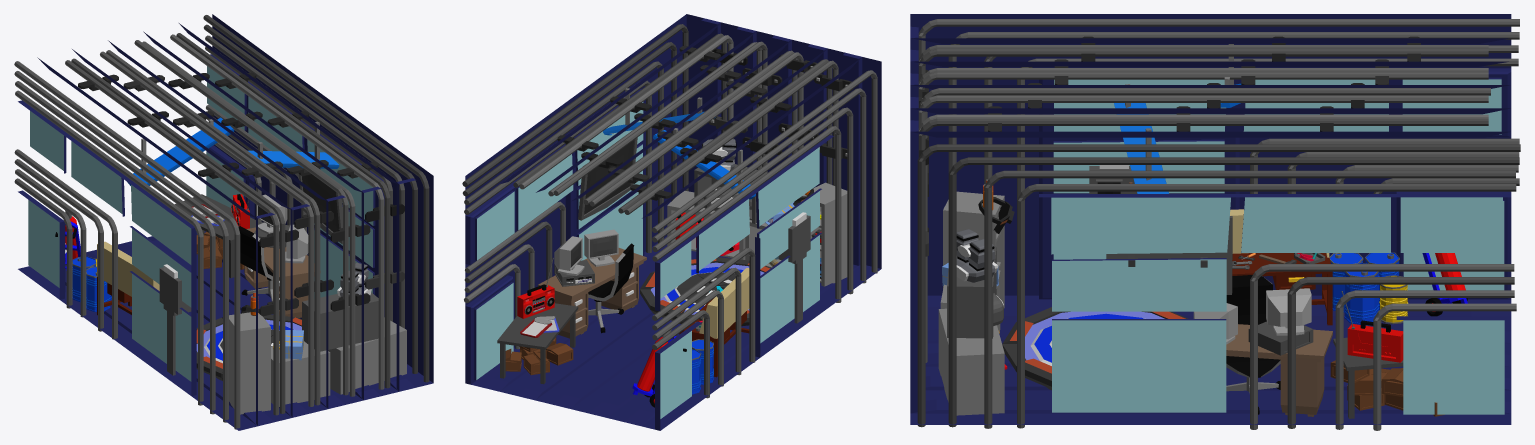
File: mech_room_280_v2_colored.fbx
The picture shows the model from 3 angles, left to right: view 1: azimuth 30°, elevation 25°; view 2: azimuth 150°, elevation 25°; view 3: azimuth 270°, elevation 25°; orthographic projection. The views are drawn at different scales.
Parts seen in each view (by area): view 1: rooom.002, Plane.003, Cylinder.020, Cylinder.011, Cylinder.003, Cylinder.021, Cylinder.012, Cylinder.006, Cylinder.008, Cylinder.010, Cylinder.004, Cylinder.009 (+30 smaller); view 2: rooom.002, Cylinder.020, Cylinder.021, Plane.023, Cylinder.022, Cylinder.023, Cylinder.011, Plane.003, Plane.049, Cylinder.012, Cylinder, Cylinder.013 (+35 smaller); view 3: rooom.002, Cylinder.011, Cylinder.013, Cylinder.012, Cylinder.014, Cylinder.006, Cylinder.020, Cylinder.004, Cylinder.005, Cylinder.009, Cylinder.007, Cylinder.021 (+33 smaller).
Part boxes in pixels (x1=…): rooom.002: x1=18, y1=14, x2=433, y2=430; Plane.003: x1=229, y1=312, x2=270, y2=414; Cylinder.020: x1=14, y1=61, x2=240, y2=429; Cylinder.011: x1=203, y1=15, x2=429, y2=382; Cylinder.003: x1=170, y1=34, x2=384, y2=389; Cylinder.021: x1=14, y1=71, x2=228, y2=422; Cylinder.012: x1=203, y1=24, x2=417, y2=373; Cylinder.006: x1=134, y1=40, x2=348, y2=395; Cylinder.008: x1=100, y1=51, x2=313, y2=406; Cylinder.010: x1=65, y1=60, x2=278, y2=415; Cylinder.004: x1=176, y1=33, x2=390, y2=388; Cylinder.009: x1=71, y1=58, x2=285, y2=413; rooom.002: x1=465, y1=14, x2=881, y2=430; Cylinder.020: x1=652, y1=70, x2=877, y2=273; Cylinder.021: x1=652, y1=88, x2=866, y2=283; Plane.023: x1=538, y1=248, x2=646, y2=338; Cylinder.022: x1=652, y1=107, x2=853, y2=294; Cylinder.023: x1=652, y1=126, x2=841, y2=302; Cylinder.011: x1=462, y1=24, x2=688, y2=191; Plane.003: x1=802, y1=182, x2=847, y2=286; Plane.049: x1=497, y1=303, x2=578, y2=384; Cylinder.012: x1=462, y1=42, x2=676, y2=201; Cylinder: x1=640, y1=257, x2=770, y2=326; Cylinder.013: x1=464, y1=61, x2=663, y2=243; rooom.002: x1=910, y1=14, x2=1511, y2=424; Cylinder.011: x1=917, y1=144, x2=1520, y2=427; Cylinder.013: x1=984, y1=170, x2=1515, y2=428; Cylinder.012: x1=948, y1=157, x2=1519, y2=427; Cylinder.014: x1=1017, y1=184, x2=1516, y2=428; Cylinder.006: x1=919, y1=88, x2=1490, y2=362; Cylinder.020: x1=918, y1=19, x2=1519, y2=58; Cylinder.004: x1=918, y1=118, x2=1488, y2=157; Cylinder.005: x1=918, y1=95, x2=1488, y2=127; Cylinder.009: x1=918, y1=49, x2=1488, y2=81; Cylinder.007: x1=918, y1=72, x2=1488, y2=107; Cylinder.021: x1=948, y1=32, x2=1519, y2=172.
Bounding box in the file's own units: 2200 × 2288 × 4393.
